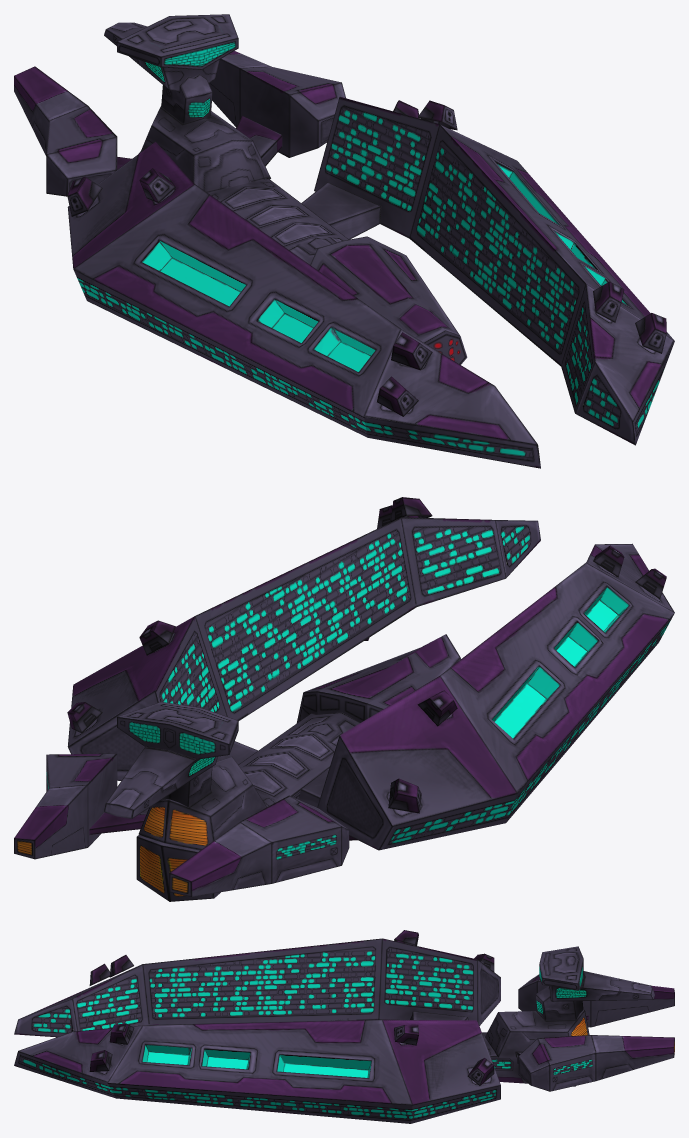
The model's file is Ship_Enemy_05.FBX.
3 views of the same model, one above another, from view 1: azimuth 30°, elevation 25°; view 2: azimuth 150°, elevation 25°; view 3: azimuth 270°, elevation 25° (orthographic). The views are drawn at different scales.
Parts seen in each view (by area): view 1: Ship_enemy_05; view 2: Ship_enemy_05; view 3: Ship_enemy_05.
Part boxes in pixels (<box>): Ship_enemy_05: <box>14,14,674,468</box>; Ship_enemy_05: <box>14,497,674,901</box>; Ship_enemy_05: <box>14,930,674,1123</box>.
Bounding box in the file's own units: 176 × 334 × 67.28.
